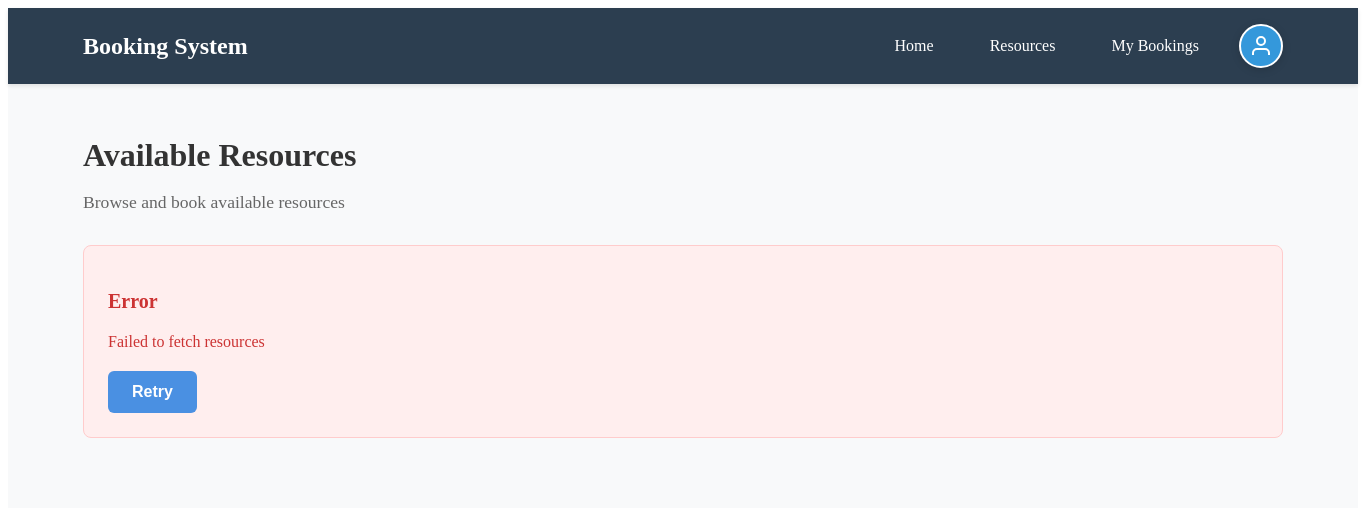
Test: ResourceListPage › Error Handling › retries fetching resources when retry button is clicked
This screenshot has width=1366, height=508.
Click the button "Retry": (152, 392) top-left (108, 371), bottom-right (197, 413)
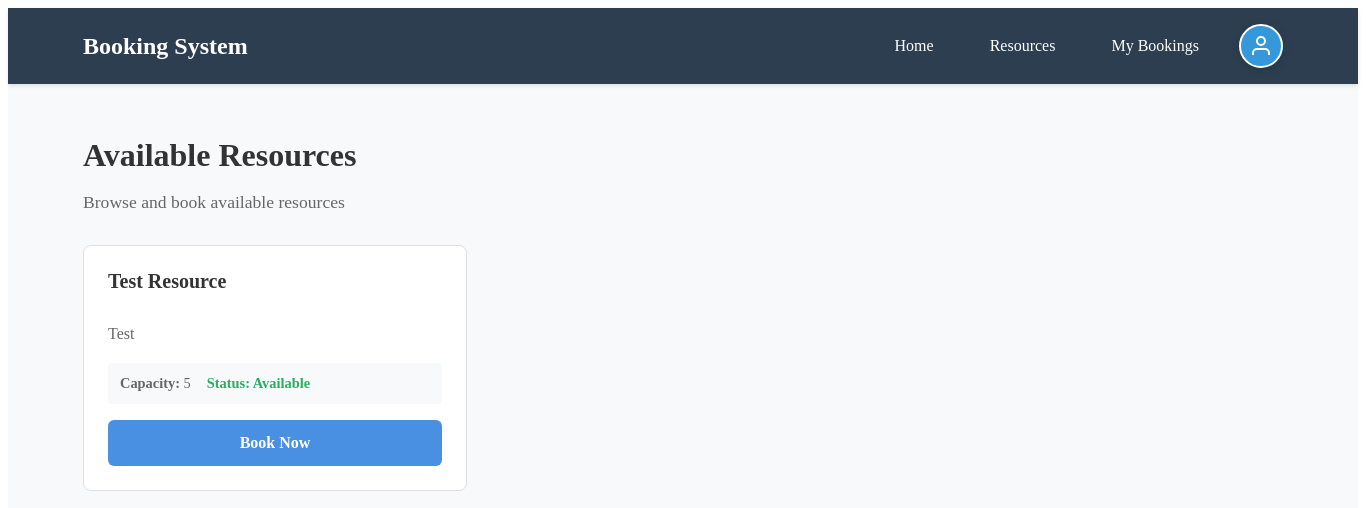
expect the heading "Test Resource" is shown: met, box top-left (108, 270), bottom-right (226, 292)
